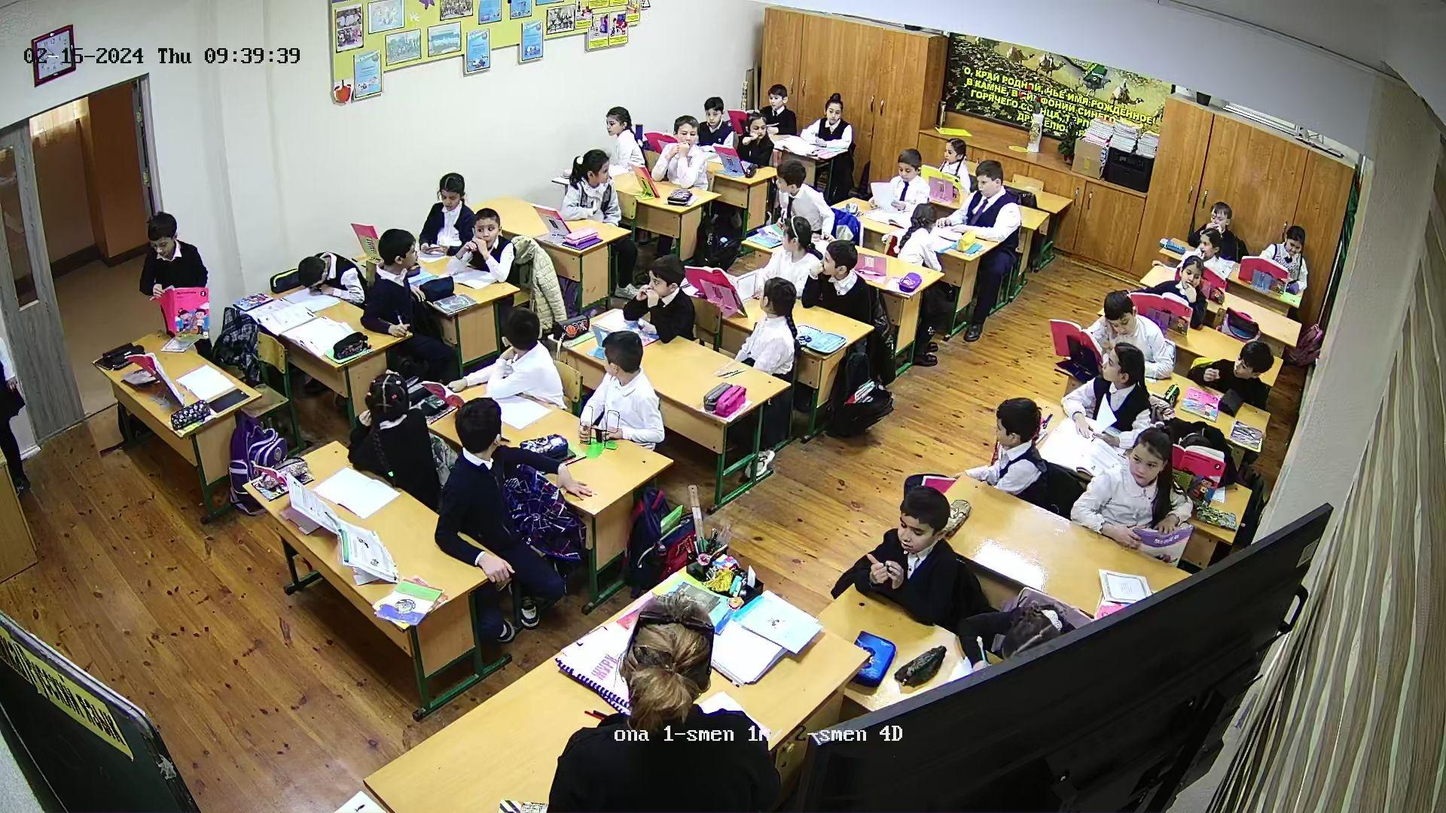Bend Over The Desk: (265, 241, 357, 318)
Look Around: (431, 402, 550, 595), (365, 224, 435, 336), (1066, 346, 1146, 435), (740, 276, 803, 379), (557, 148, 618, 230), (771, 163, 834, 241)
Stand Up: (566, 611, 753, 813), (142, 211, 215, 343), (601, 102, 657, 181)
